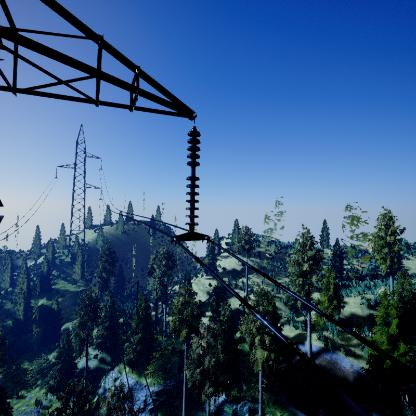insulator: (183, 127, 203, 230)
tower: (53, 118, 105, 252)
